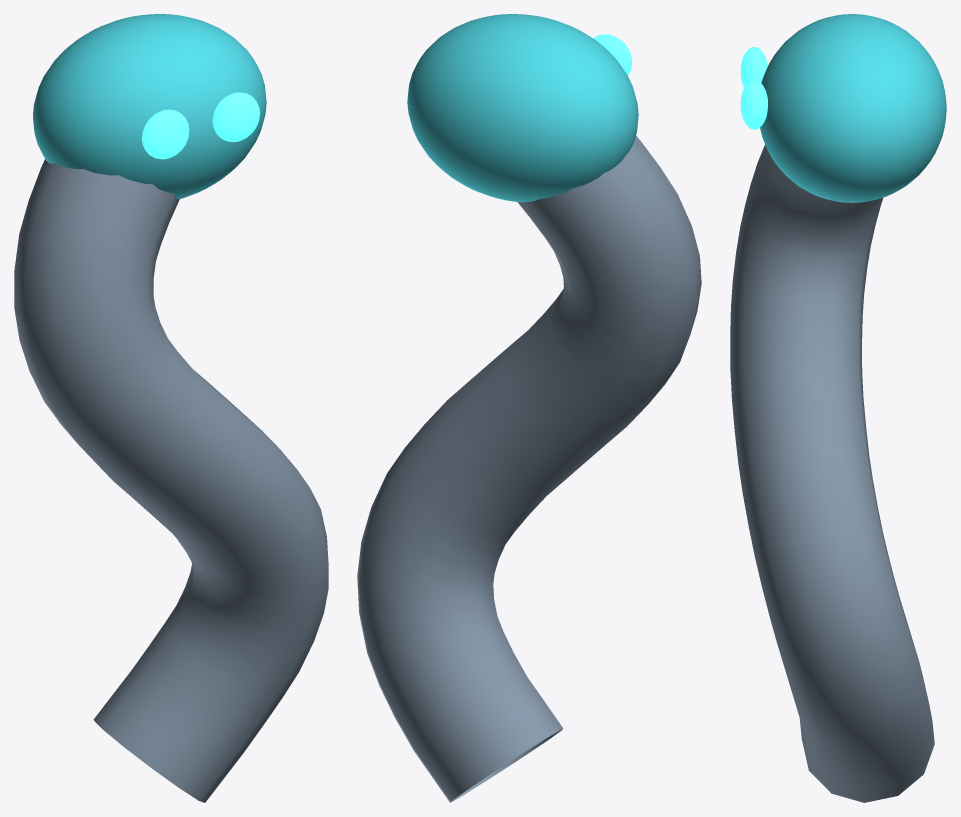
Rendered from serpent.glb.
3 views of the same model, side by side, from view 1: azimuth 30°, elevation 25°; view 2: azimuth 150°, elevation 25°; view 3: azimuth 270°, elevation 25° (orthographic). The views are drawn at different scales.
Visible parts, largest first — view 1: SERPENT_BODY_PRIMARY, SERPENT_HEAD_ACCENT, EYE_EMISSIVE, EYE_EMISSIVE.001; view 2: SERPENT_BODY_PRIMARY, SERPENT_HEAD_ACCENT, EYE_EMISSIVE; view 3: SERPENT_BODY_PRIMARY, SERPENT_HEAD_ACCENT, EYE_EMISSIVE.001, EYE_EMISSIVE.
Part boxes in pixels (x1,y1,x2,y2): SERPENT_BODY_PRIMARY: (14, 159, 328, 802); SERPENT_HEAD_ACCENT: (33, 14, 266, 199); EYE_EMISSIVE: (142, 109, 189, 159); EYE_EMISSIVE.001: (212, 92, 259, 142); SERPENT_BODY_PRIMARY: (357, 135, 701, 802); SERPENT_HEAD_ACCENT: (407, 14, 638, 202); EYE_EMISSIVE: (593, 34, 632, 75); SERPENT_BODY_PRIMARY: (730, 144, 934, 802); SERPENT_HEAD_ACCENT: (760, 14, 946, 202); EYE_EMISSIVE.001: (740, 80, 767, 129); EYE_EMISSIVE: (740, 47, 767, 87).
Bounding box in the file's own units: 1.23 × 2.98 × 0.7791.
